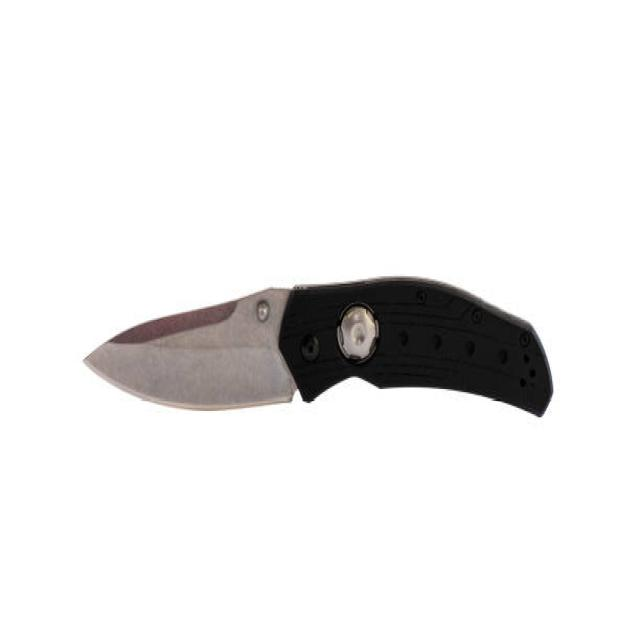knife: (85, 270, 558, 439)
